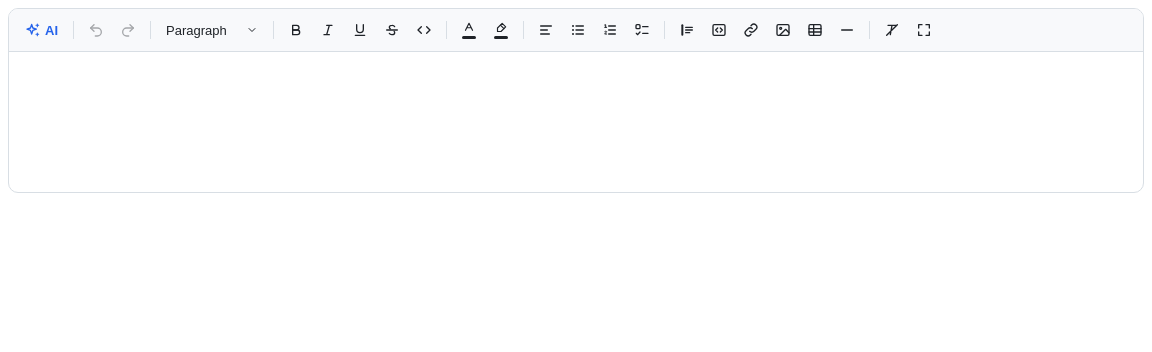
Test: AI assistant › strips unsafe markup from model output before previewing or inserting
Later steps or results of the test are not shown.
Expected: the field with class "richkit-content" is shown, x1=9 y1=52 x2=1143 y2=192
Click the button with aria-label "Ask AI": (42,30) x1=17 y1=15 x2=66 y2=45
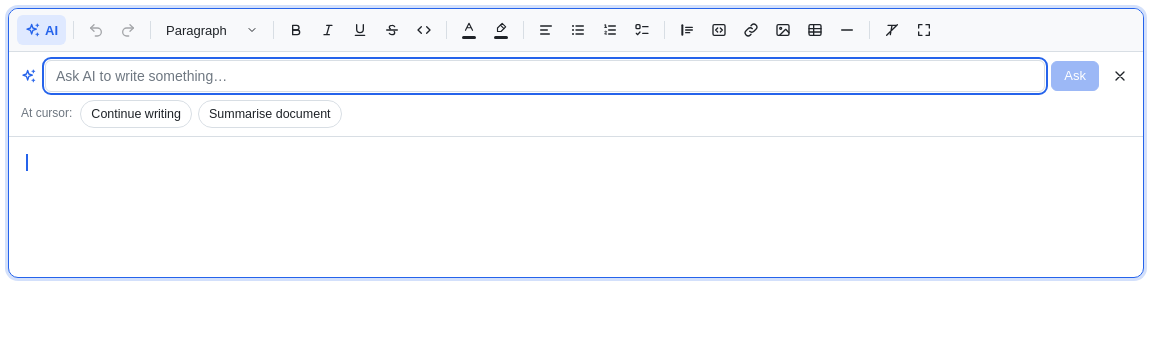
Click the button "Continue writing": (136,114) x1=80 y1=100 x2=192 y2=128
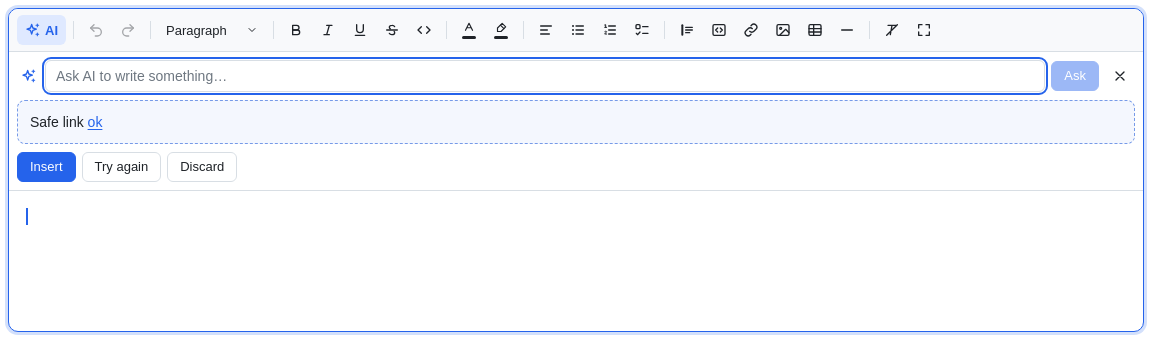
Now the button "Insert" is shown, box x1=17 y1=152 x2=76 y2=182
